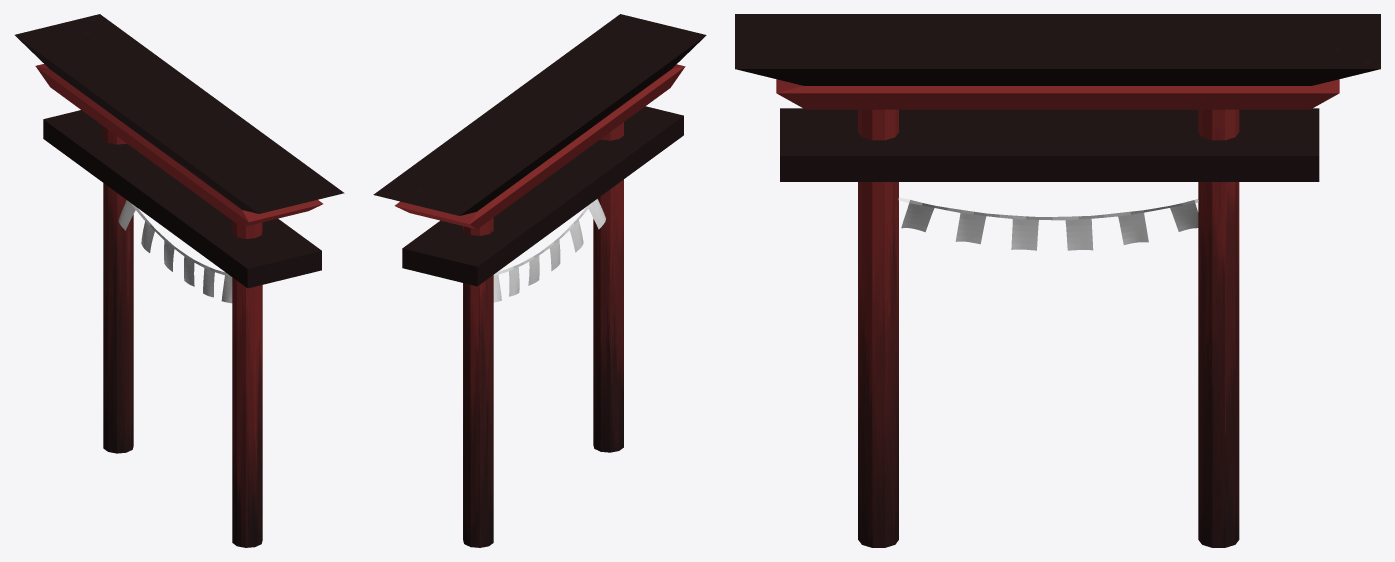
File: PortãoFD.fbx
3 views of the same model, side by side, from view 1: azimuth 30°, elevation 25°; view 2: azimuth 150°, elevation 25°; view 3: azimuth 270°, elevation 25° (orthographic). The views are drawn at different scales.
Visible parts, largest first — view 1: Cylinder, Plane; view 2: Cylinder, Plane; view 3: Cylinder, Plane.
Part boxes in pixels (x1,y1,x2,y2): Cylinder: (15,14,344,547); Plane: (118,200,232,303); Cylinder: (373,14,706,547); Plane: (493,199,605,302); Cylinder: (735,14,1380,547); Plane: (898,197,1198,250).
Size of the model in its own units: 353 by 1488 by 1749.
